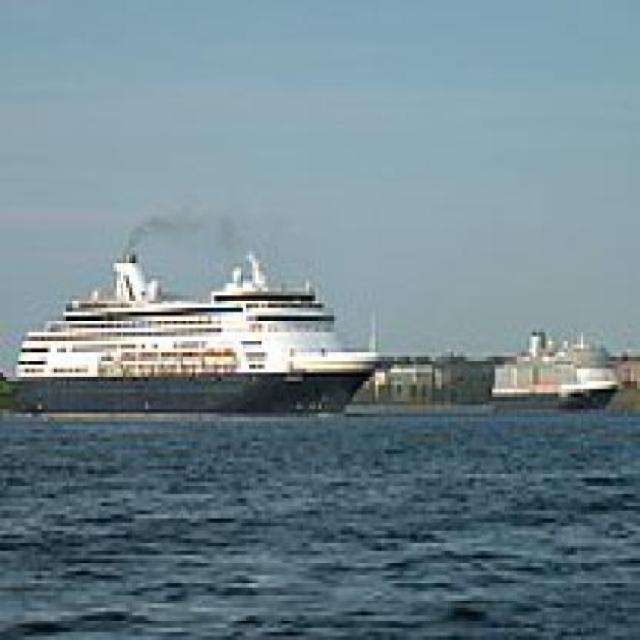cruise: (7, 240, 404, 423)
